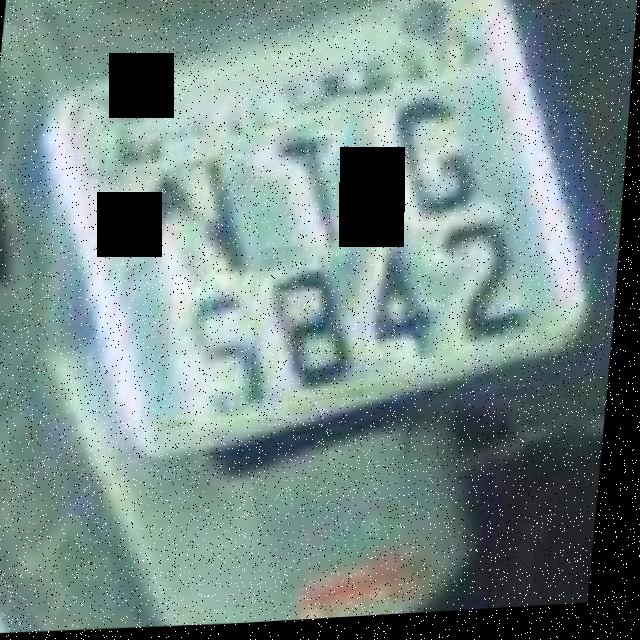2: (418, 207, 556, 352)
4: (348, 219, 455, 377)
5: (168, 272, 304, 427)
8: (253, 246, 381, 409)
G: (372, 77, 506, 220)
J: (261, 110, 388, 265)
N: (162, 154, 268, 307)
